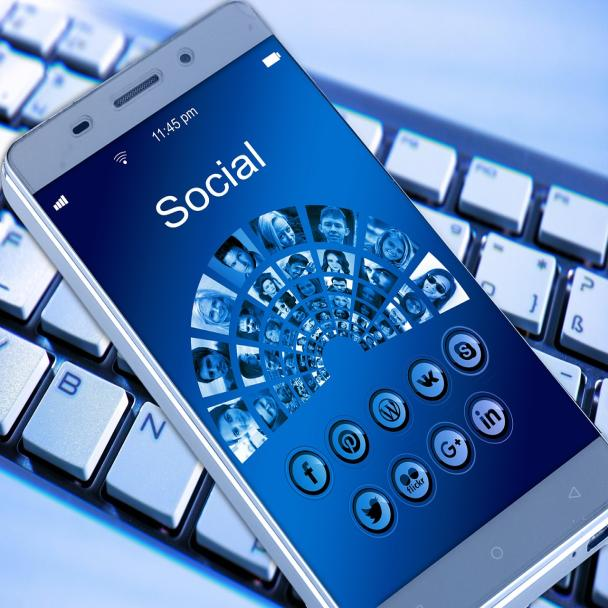Handphone: (1, 0, 608, 608)
